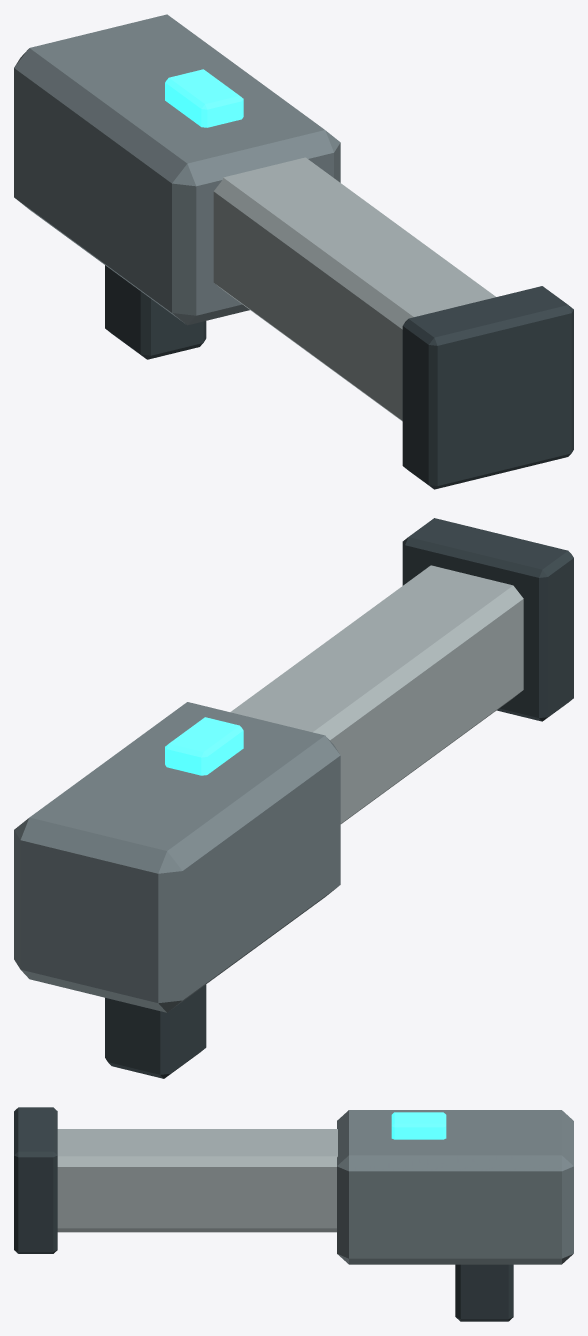
The model's file is WeaponCannon.fbx.
The picture shows the model from 3 angles, top to bottom: view 1: azimuth 30°, elevation 25°; view 2: azimuth 150°, elevation 25°; view 3: azimuth 270°, elevation 25°; orthographic projection. The views are drawn at different scales.
Visible parts, largest first — view 1: Cannon receiver, Barrel.001, Muzzle.001, Grip.001, Sight.001; view 2: Cannon receiver, Barrel.001, Muzzle.001, Grip.001, Sight.001; view 3: Cannon receiver, Barrel.001, Muzzle.001, Grip.001, Sight.001.
Boxes of the visible parts, x1,y1,x2,y2 form: Cannon receiver: (14,14,340,325); Barrel.001: (213,157,495,421); Muzzle.001: (402,286,573,489); Grip.001: (105,265,206,359); Sight.001: (165,69,243,127); Cannon receiver: (14,702,340,1012); Barrel.001: (230,565,523,823); Muzzle.001: (402,518,573,721); Grip.001: (105,984,206,1078); Sight.001: (165,717,243,775); Cannon receiver: (337,1110,573,1264); Barrel.001: (57,1129,337,1232); Muzzle.001: (14,1107,57,1253); Grip.001: (455,1264,513,1321); Sight.001: (391,1112,446,1139).
Size of the model in its own units: 0.36 by 0.59 by 1.53.
